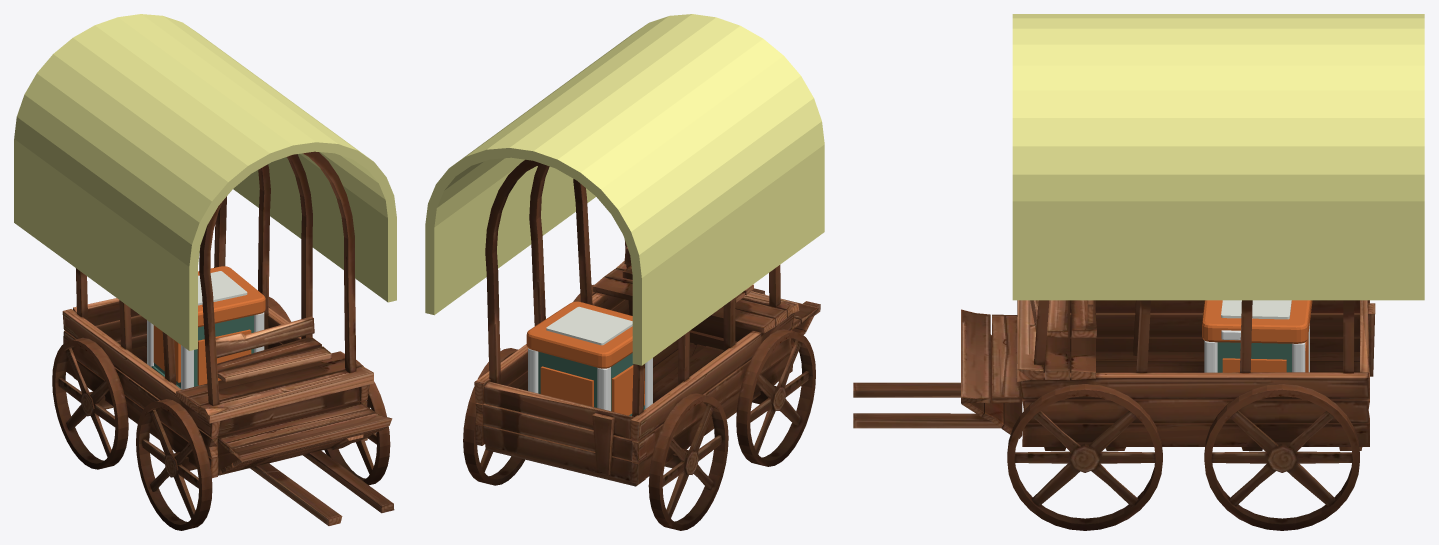
The model's file is opus55_t06.glb.
The picture shows the model from 3 angles, left to right: view 1: azimuth 30°, elevation 25°; view 2: azimuth 150°, elevation 25°; view 3: azimuth 270°, elevation 25°; orthographic projection. The views are drawn at different scales.
Parts seen in each view (by area): view 1: slot_canopy_yellow, slot_anchor_frame, slot_front_wheels, slot_bed_scifi_box; view 2: slot_canopy_yellow, slot_anchor_frame, slot_bed_scifi_box, slot_front_wheels; view 3: slot_canopy_yellow, slot_anchor_frame, slot_front_wheels, slot_bed_scifi_box.
Boxes of the visible parts, box(x1,y1,x2,y2) form: slot_canopy_yellow: box(14, 14, 396, 350); slot_anchor_frame: box(52, 151, 394, 525); slot_front_wheels: box(136, 360, 390, 530); slot_bed_scifi_box: box(147, 266, 265, 389); slot_canopy_yellow: box(425, 14, 824, 365); slot_anchor_frame: box(463, 159, 820, 530); slot_bed_scifi_box: box(526, 301, 652, 416); slot_front_wheels: box(573, 284, 815, 466); slot_canopy_yellow: box(1012, 14, 1424, 300); slot_anchor_frame: box(853, 300, 1375, 530); slot_front_wheels: box(1007, 384, 1162, 530); slot_bed_scifi_box: box(1202, 300, 1312, 372).
Size of the model in its own units: 1.06 by 1.86 by 2.15.
7 materials, 1 textured.
